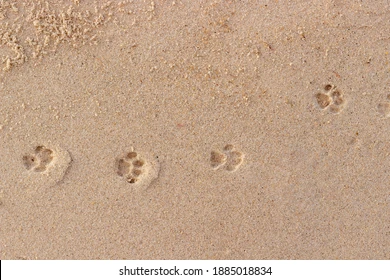cat: (18, 143, 57, 178), (111, 151, 145, 186), (209, 144, 244, 175), (313, 83, 346, 115)
